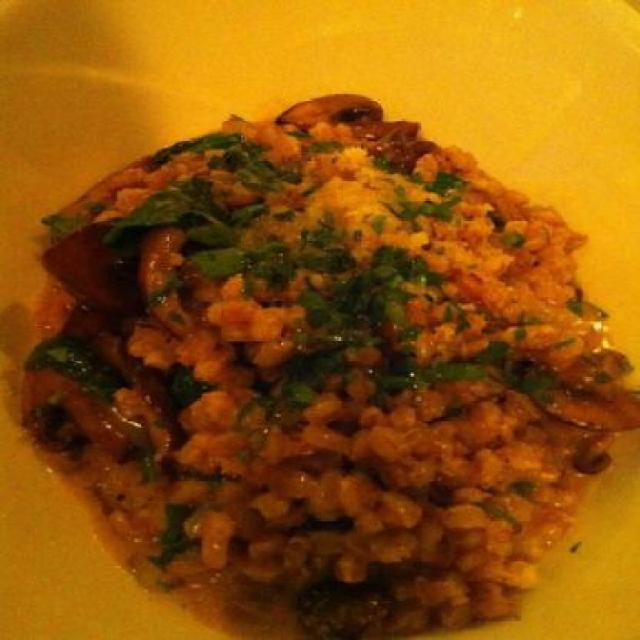Risotto: (20, 95, 622, 640)
